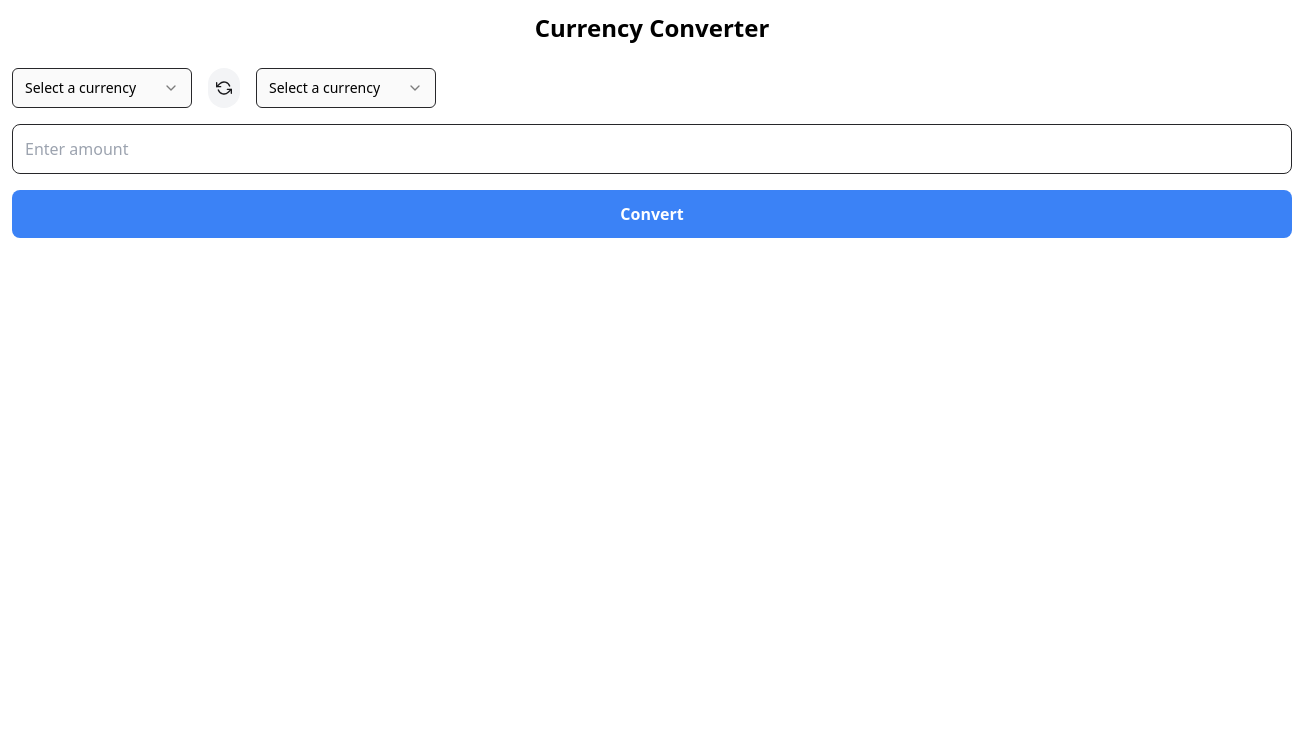
Test: CurrencyConverter › error is displayed if API returns error
// Open the 'From Currency' dropdown
Click the 1st dropdown labelled "Select a currency" at (102, 88), box [12,68,192,108]
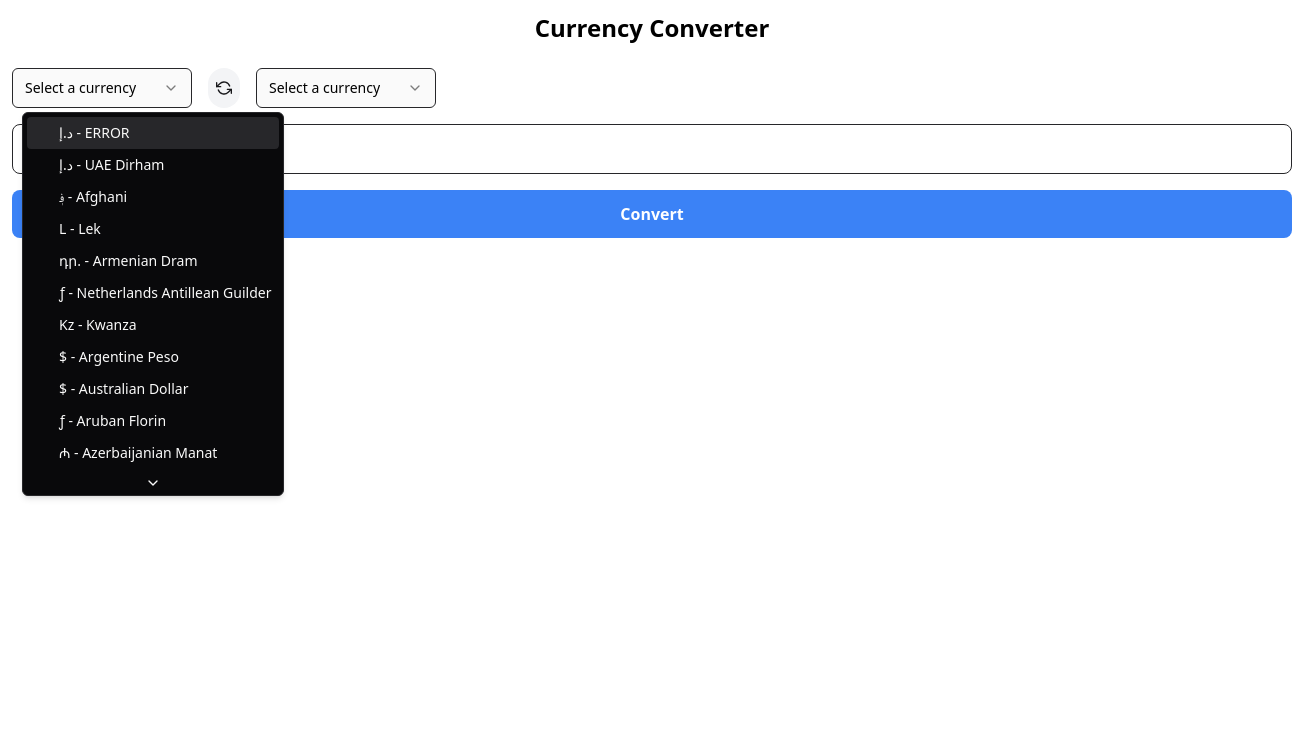
// Select option
Click the text "Afghani" at (102, 196), box [76,187,127,206]
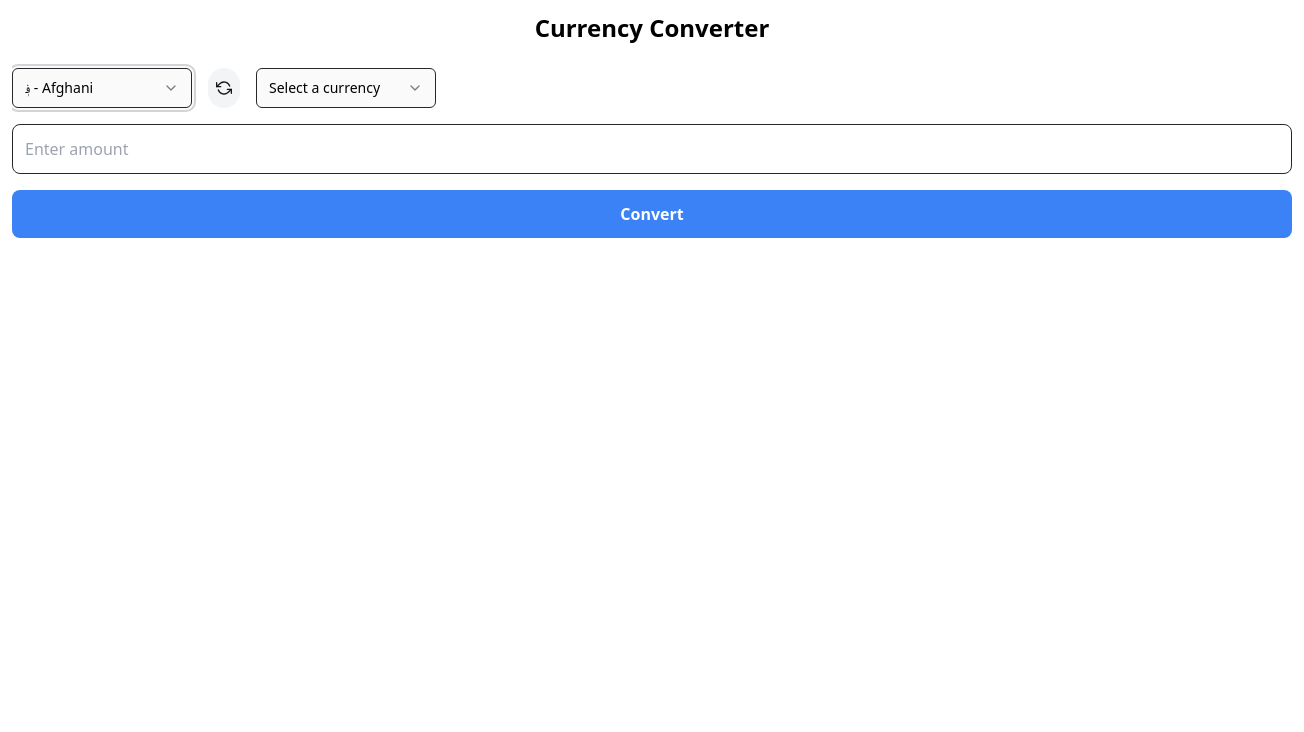
// Open the 'To Currency' dropdown
Click the dropdown labelled "Select a currency" at (346, 88), box [256,68,436,108]
(page scrolled)
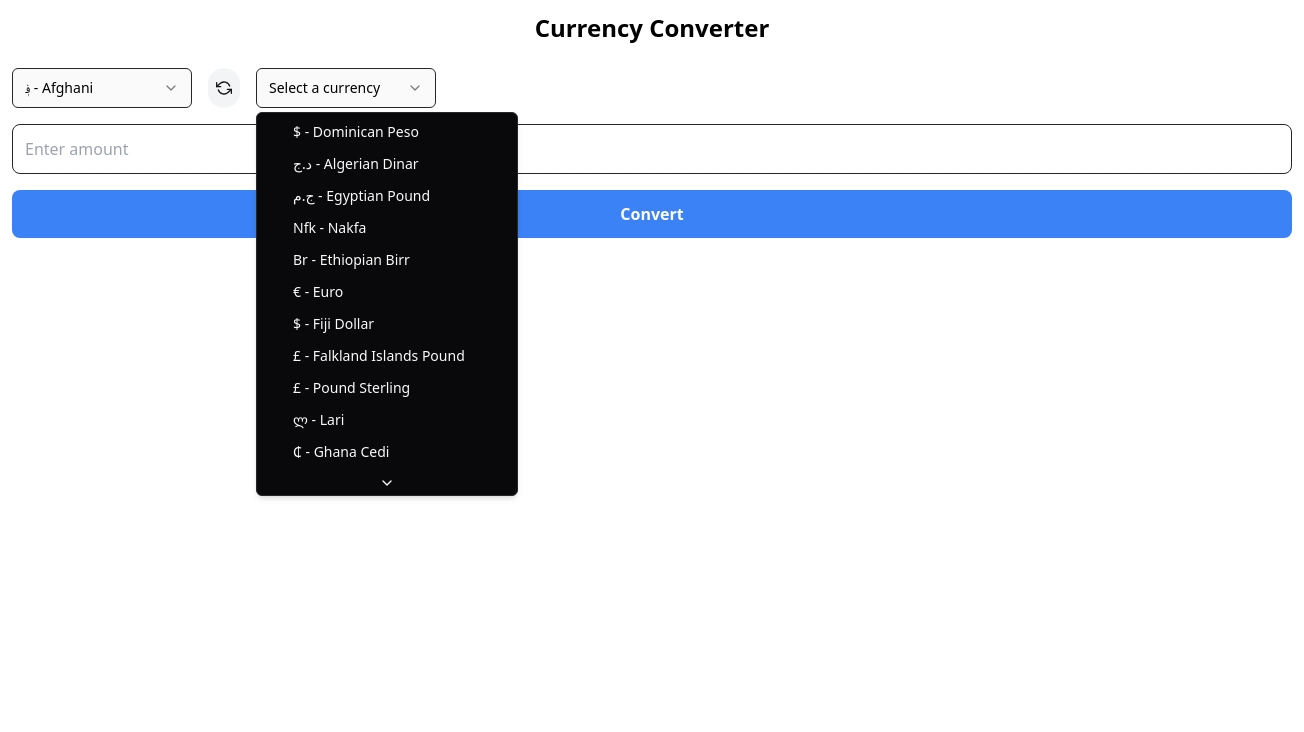
// Select 'Euro'
Click the text "Euro" at (328, 292), box [313,282,343,301]
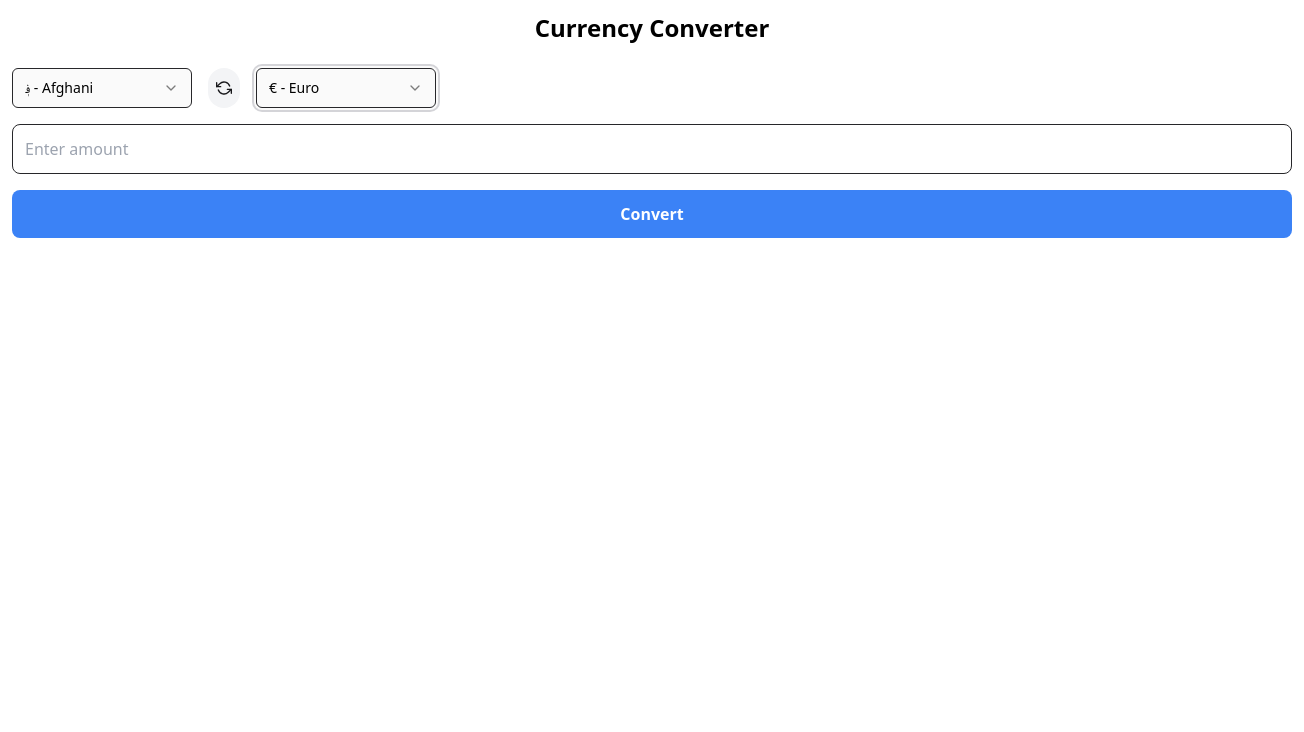
Now the dropdown labelled "€ - Euro" is shown, box [256,68,436,108]
// Enter amount
Type "100" into the number field with placeholder "Enter amount" at (652, 149), box [12,124,1292,174]
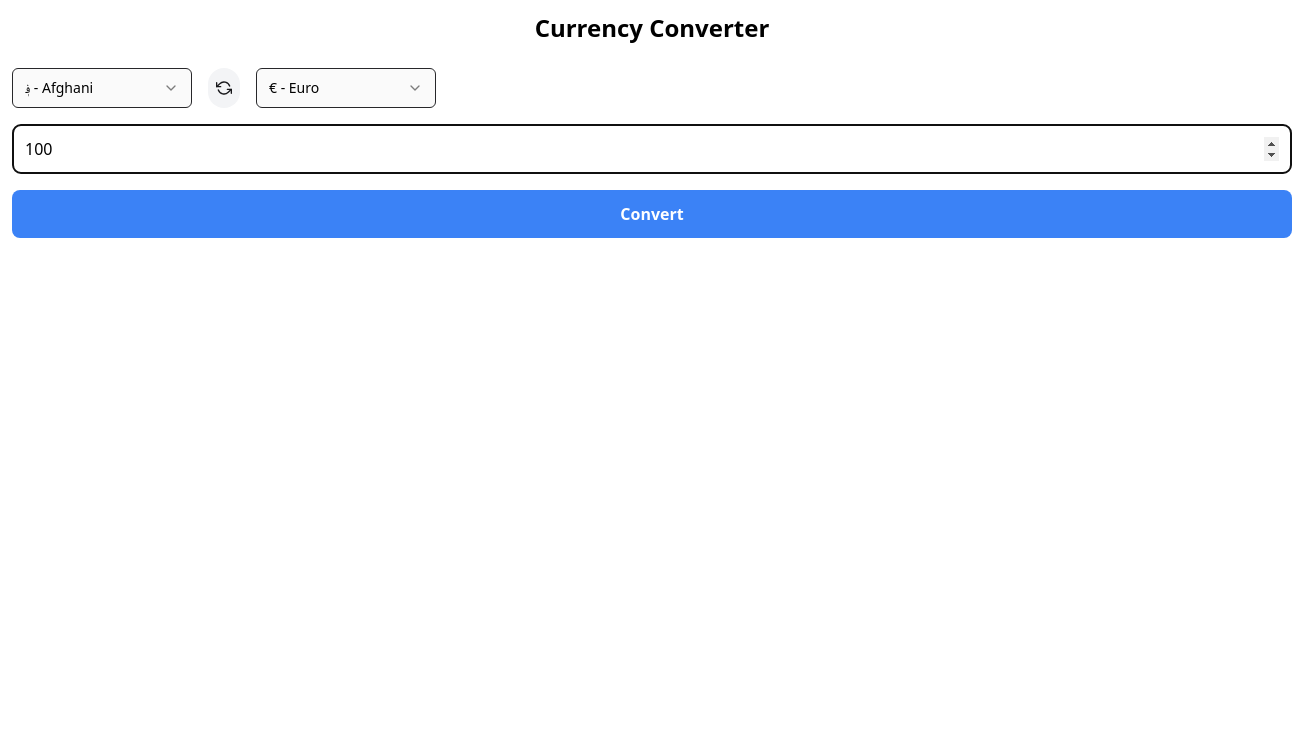
// Trigger conversion
Click the button "Convert" at (652, 214), box [12,190,1292,238]
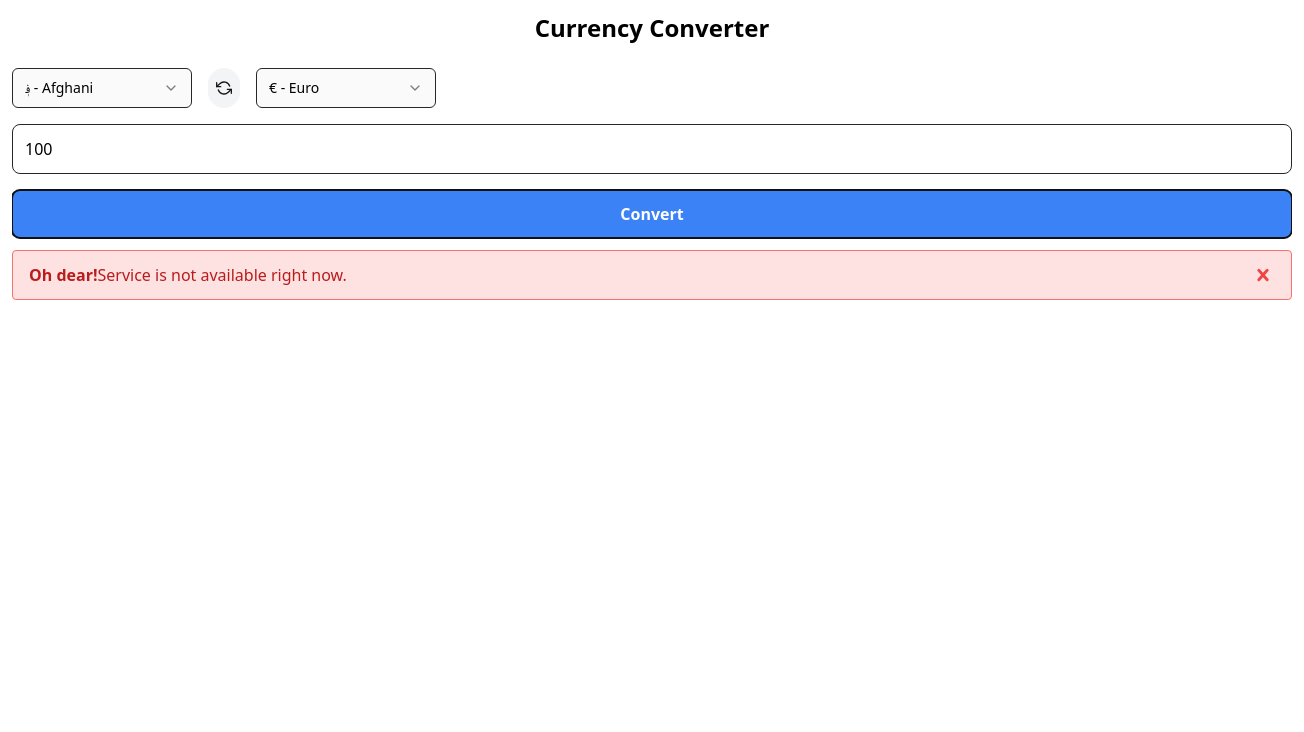
Now the text "Oh dear!" is shown, box [29,264,98,286]
